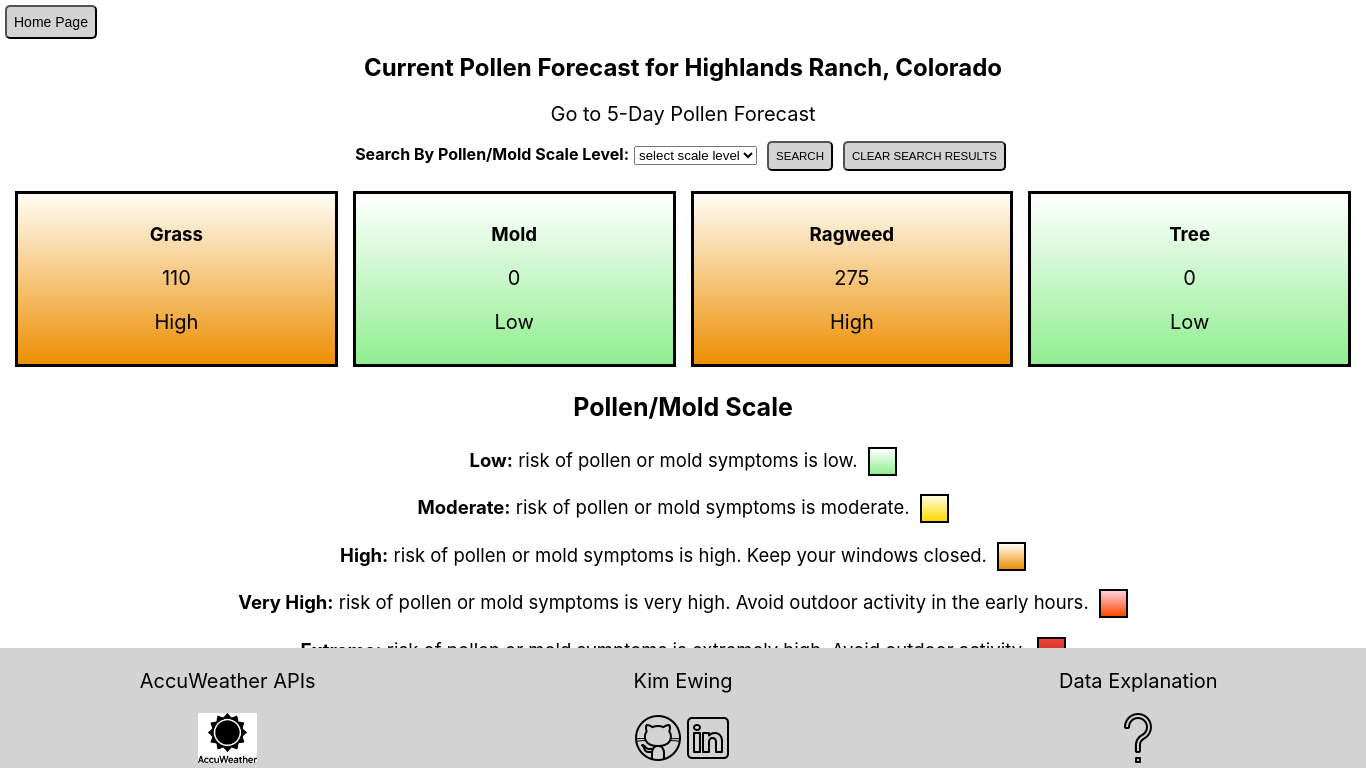
Test: Current Pollen Forecast Page Tests › should select a pollen/mold scale level in the drop down and hit submit, returning a message if no pollen forecasts meet the search criteria
Select "Moderate" in the dropdown with class "drop-down" at (696, 156), box [634,146,757,165]
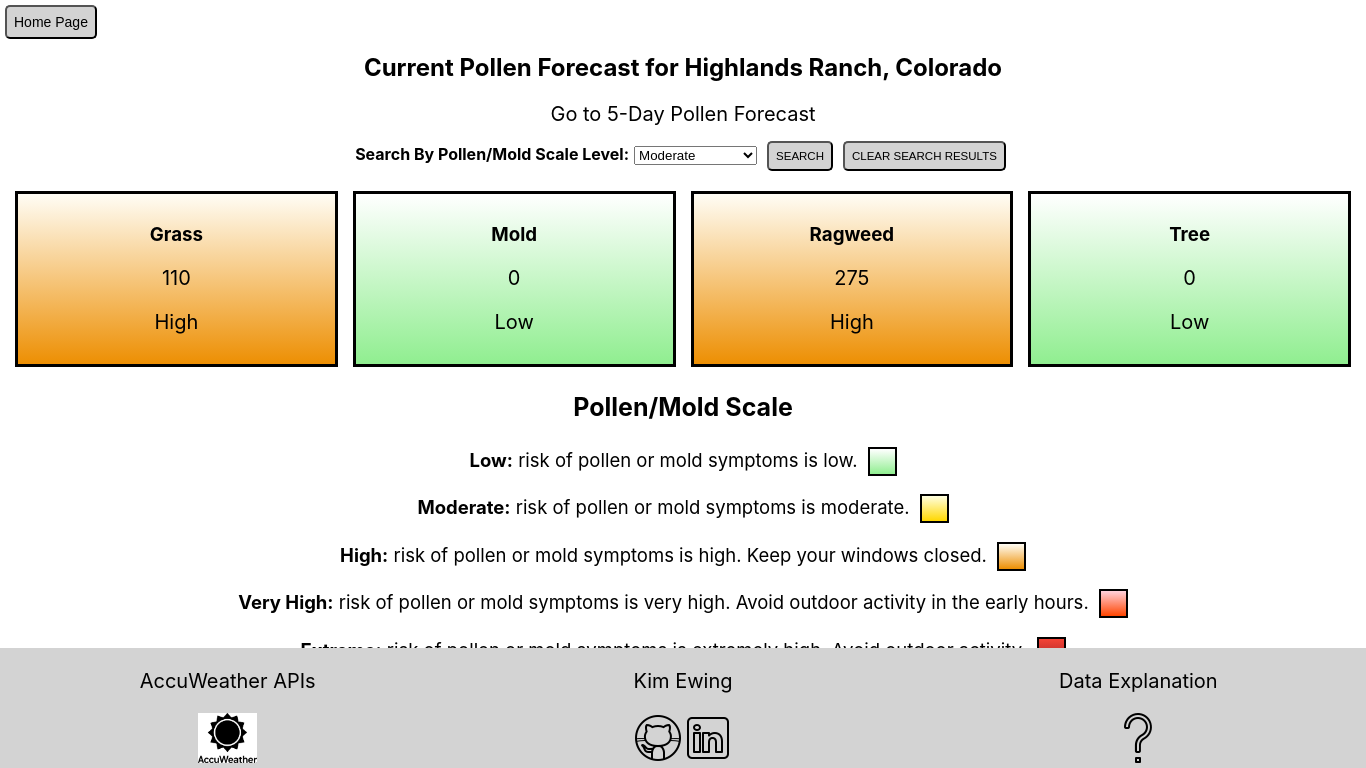
Click the button with class "search-button" at (800, 156), box [767,141,833,171]
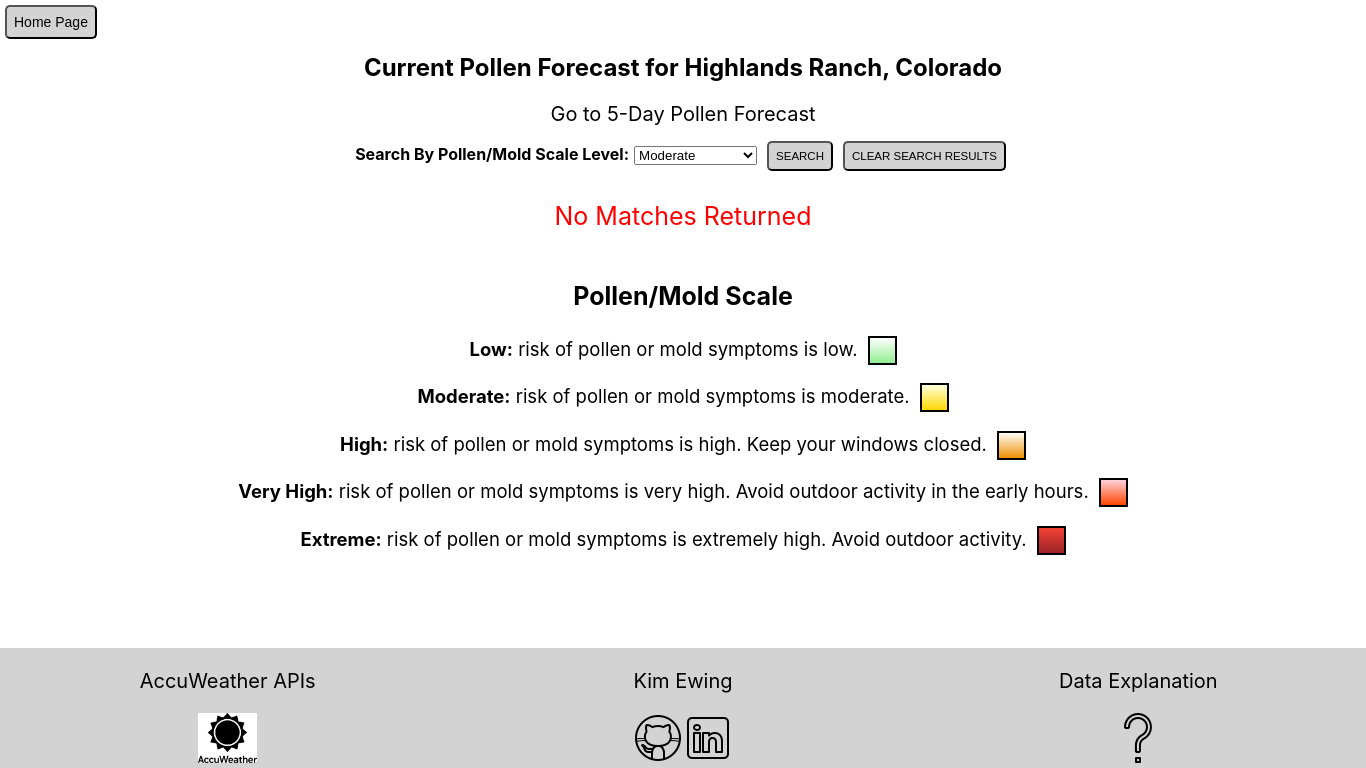
Expected: the text with class "search-results-error-message" reads "No Matches Returned", [555,201,812,231]
